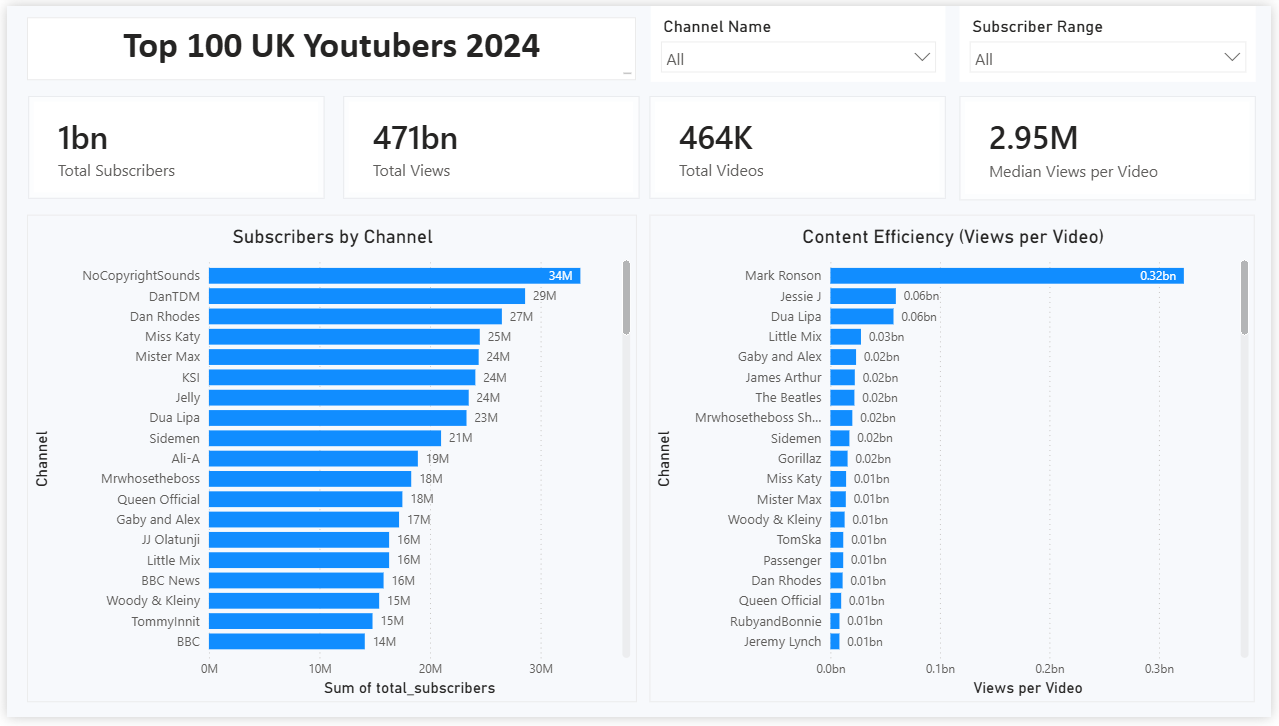

This screenshot's page, from the dashboard's own definition file:
{"tool":"powerbi","page":{"name":"Page 1","canvas":[1280,720],"ordinal":0},"visuals":[{"type":"cardVisual","title":"Total Subscriber","fields":{"Data":["view_top_uk_youtubers_2024.total_subscribers"]},"box":[21.4,91.4,300,104.3],"z":0},{"type":"textbox","title":"Top 100 UK Youtubers 2024","box":[20,11.4,617.1,62.9],"z":1000},{"type":"cardVisual","fields":{"Data":["view_top_uk_youtubers_2024.total_views"]},"box":[340,91.4,300,104.3],"z":2000},{"type":"cardVisual","fields":{"Data":["view_top_uk_youtubers_2024.total_videos"]},"box":[650,91.4,300,104.3],"z":3000},{"type":"cardVisual","fields":{"Data":["view_top_uk_youtubers_2024.Median Views per Video"]},"box":[964.3,91.4,300,105.7],"z":4000},{"type":"clusteredBarChart","title":"Subscribers by Channel","fields":{"Category":["view_top_uk_youtubers_2024.channel_name"],"Y":["view_top_uk_youtubers_2024.total_subscribers"]},"box":[20,212,617.3,493.3],"z":5000},{"type":"clusteredBarChart","title":"Content Efficiency (Views per Video)","fields":{"Category":["view_top_uk_youtubers_2024.channel_name"],"Y":["view_top_uk_youtubers_2024.Views per Video"]},"box":[651.2,211.8,613,493.3],"z":6000},{"type":"slicer","fields":{"Values":["view_top_uk_youtubers_2024.channel_name"]},"box":[651.4,0,298.6,77.1],"z":7000},{"type":"slicer","fields":{"Values":["view_top_uk_youtubers_2024.total_subscribers"]},"box":[964.3,0,300,77.1],"z":8000}]}

Visuals, with their boxes in screenshot pixels (x1, y1, x2, y2), scaled from the page's 1280x720 canvas onto the 1279x726 screenshot:
"Total Subscriber" cardVisual: select_region(21, 92, 321, 197)
"Top 100 UK Youtubers 2024" textbox: select_region(20, 11, 637, 75)
cardVisual - view_top_uk_youtubers_2024.total_views: select_region(340, 92, 640, 197)
cardVisual - view_top_uk_youtubers_2024.total_videos: select_region(649, 92, 949, 197)
cardVisual - view_top_uk_youtubers_2024.Median Views per Video: select_region(964, 92, 1263, 199)
"Subscribers by Channel" clusteredBarChart: select_region(20, 214, 637, 711)
"Content Efficiency (Views per Video)" clusteredBarChart: select_region(651, 214, 1263, 711)
slicer - view_top_uk_youtubers_2024.channel_name: select_region(651, 0, 949, 78)
slicer - view_top_uk_youtubers_2024.total_subscribers: select_region(964, 0, 1263, 78)
